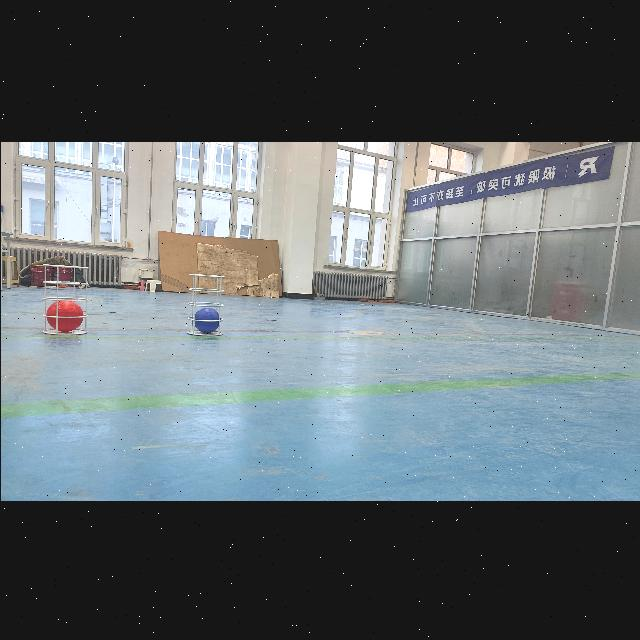B: (191, 306, 219, 332)
R: (44, 300, 82, 330)
S: (36, 260, 92, 336), (183, 272, 227, 336)
